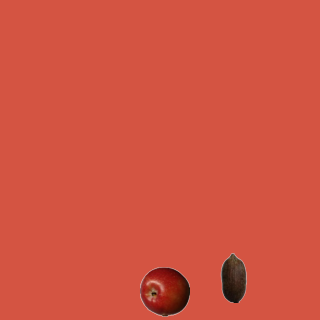Apple Braeburn: (139, 266, 189, 316)
Nut Pecan: (208, 252, 258, 302)
